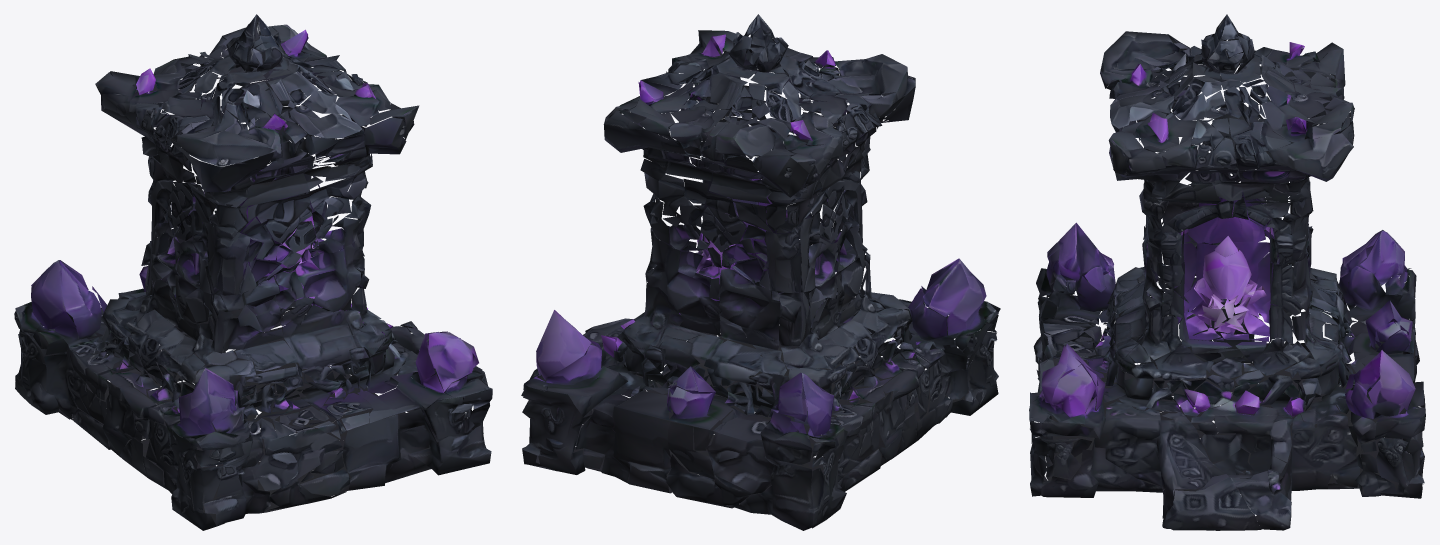
Rendered from TripoShrineLantern.fbx.
3 views of the same model, side by side, from view 1: azimuth 30°, elevation 25°; view 2: azimuth 150°, elevation 25°; view 3: azimuth 270°, elevation 25° (orthographic).
Visible parts, largest first — view 1: TripoShrineLantern; view 2: TripoShrineLantern; view 3: TripoShrineLantern.
Part boxes in pixels (x1=…): TripoShrineLantern: x1=14, y1=14, x2=492, y2=530; TripoShrineLantern: x1=521, y1=14, x2=1000, y2=530; TripoShrineLantern: x1=1029, y1=14, x2=1425, y2=530.
Size of the model in its own units: 3.14 by 2.93 by 3.4.
Materials: 1 (1 with a texture image).
